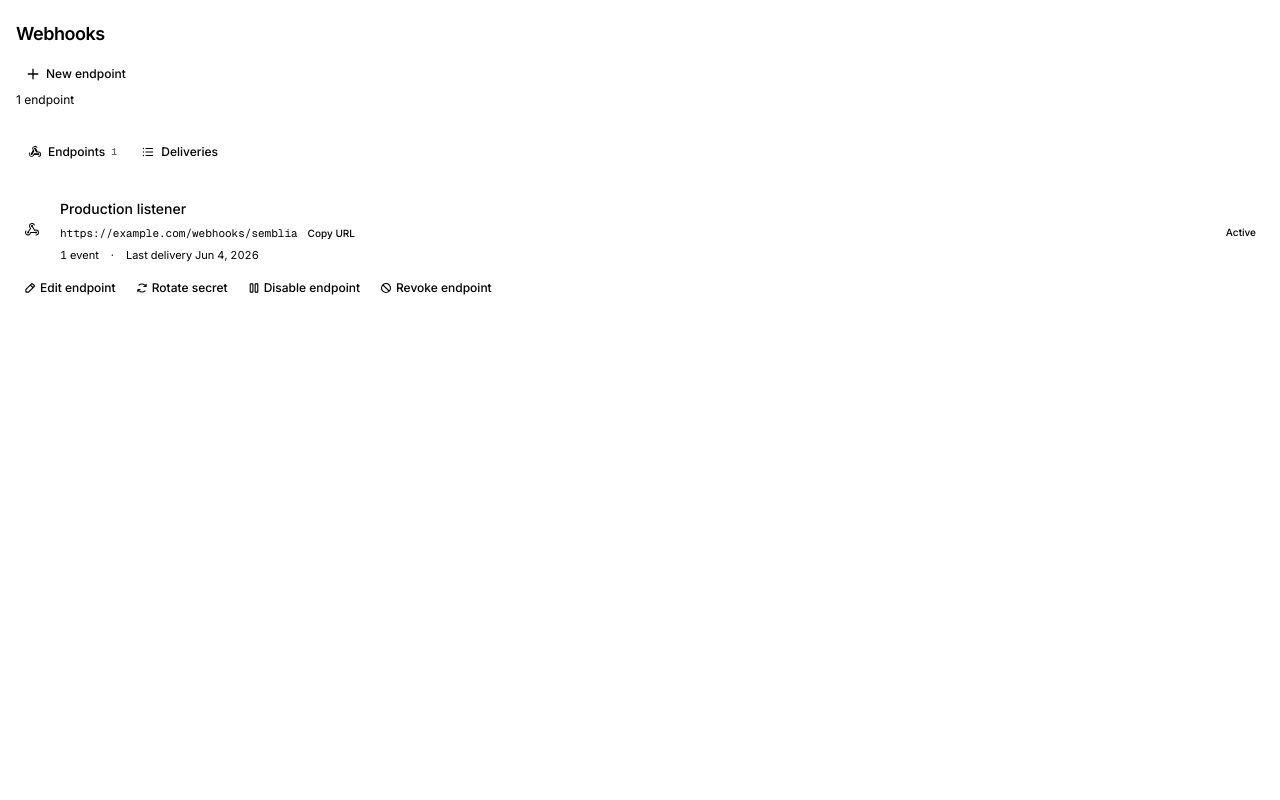
Test: WebhooksClient › rotates the signing secret and reveals it once
The width and height of the screenshot is (1280, 800).
Expected: the text "Production listener" is shown, [60, 200, 186, 217]
Click the button "Rotate secret" at [182, 288], box [128, 276, 236, 300]
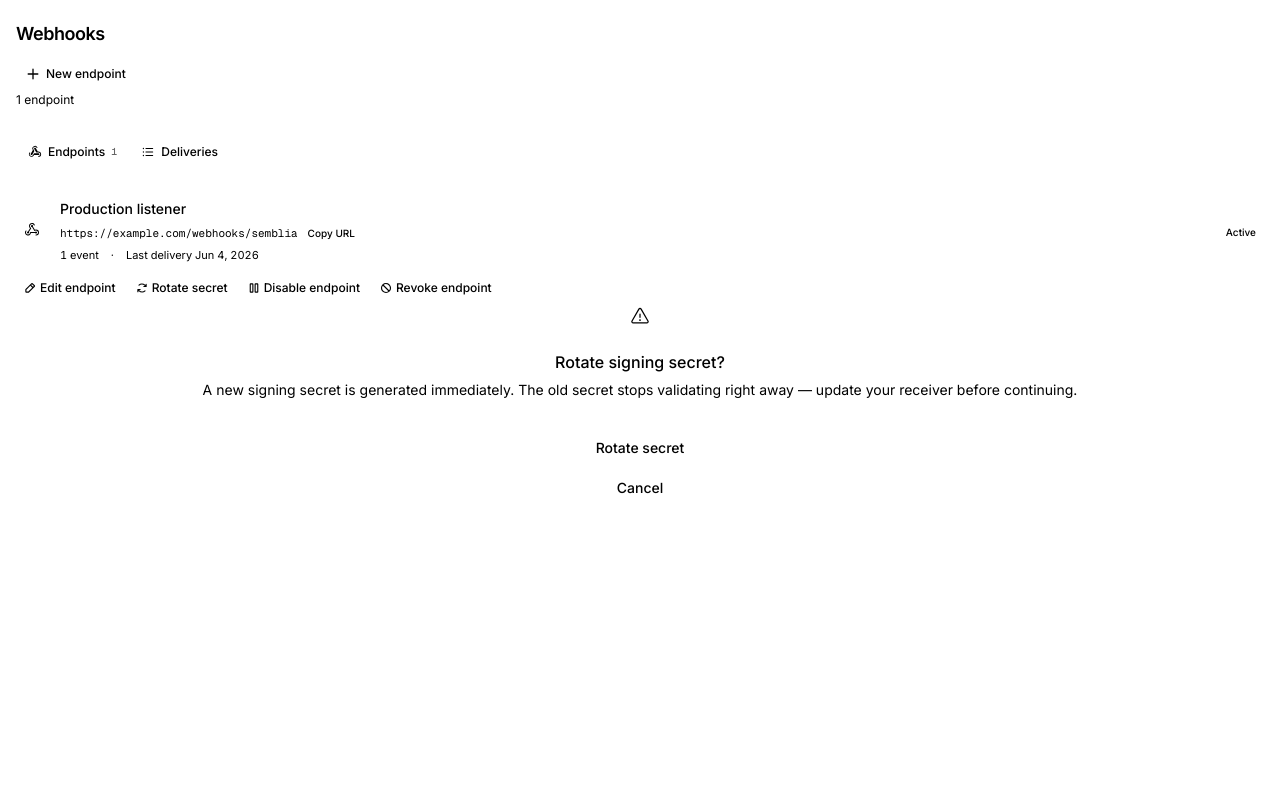
Click the button "Rotate secret" at [640, 448], box [16, 432, 1264, 464]
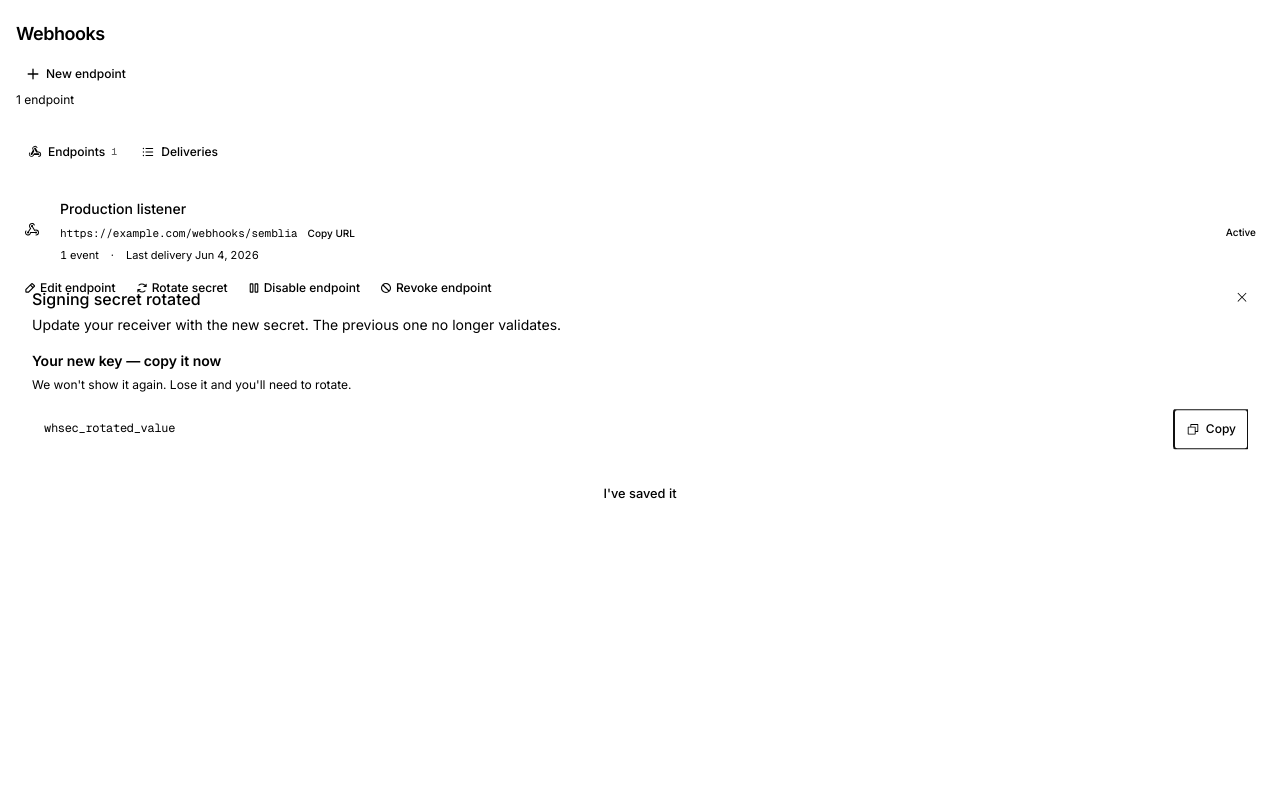
Now the text "whsec_rotated_value" is shown, box [44, 420, 175, 436]
